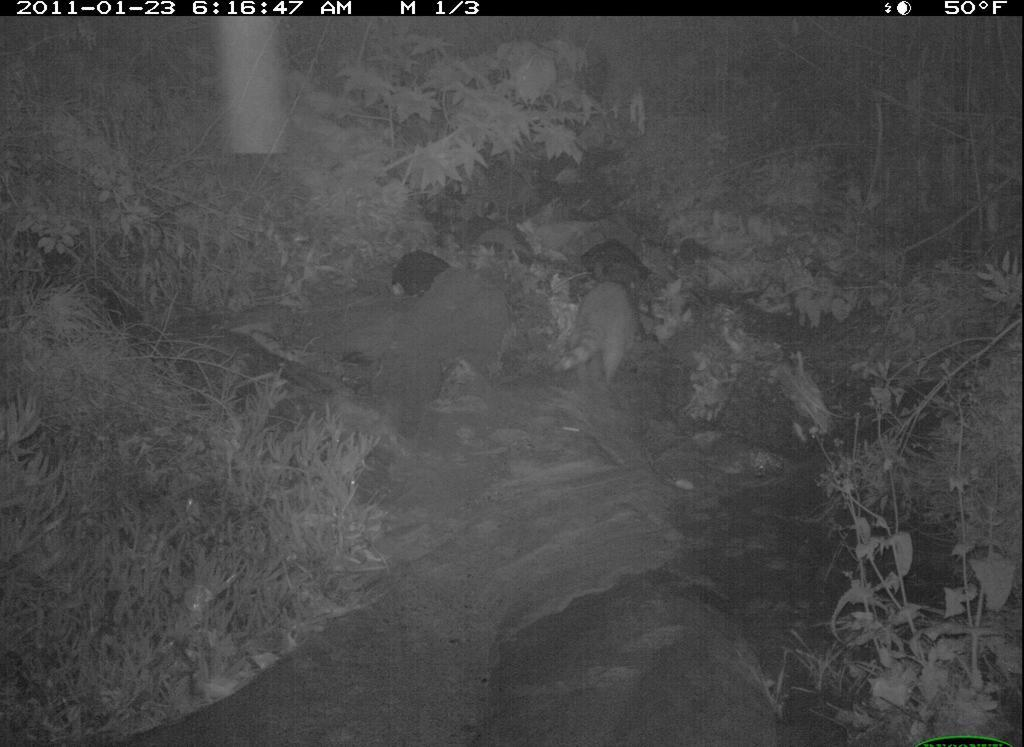raccoon: (552, 254, 661, 415)
